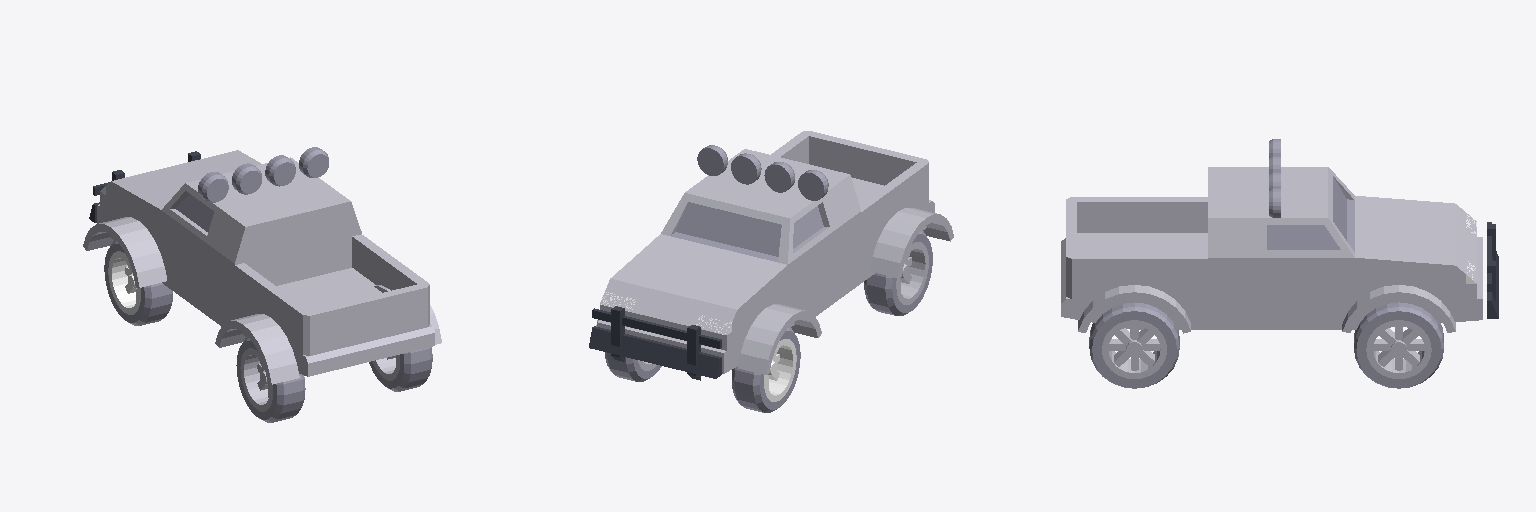
The model's file is truck.obj.
3 renders of one model, left to right at view 1: azimuth 30°, elevation 25°; view 2: azimuth 150°, elevation 25°; view 3: azimuth 270°, elevation 25°, orthographic.
Bounding box in the file's own units: 1.34 × 1.42 × 2.98.